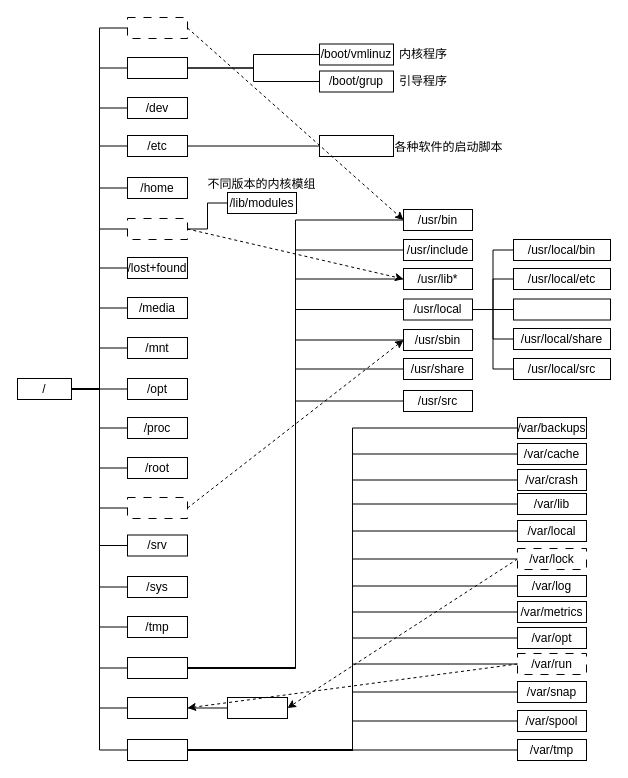
Some shapes in this 628 by 778 pixel diagram are drawn without their labels. Each missing label, with the centre of its shape:
/bin: the point at 157,27
/boot: the point at 157,67
/dev/systemd: the point at 356,145
/lib: the point at 157,229
/run: the point at 157,707
/run/lock: the point at 257,707
/sbin: the point at 157,507
/usr: the point at 157,667
/usr/local/include: the point at 561,309
/var: the point at 157,749
